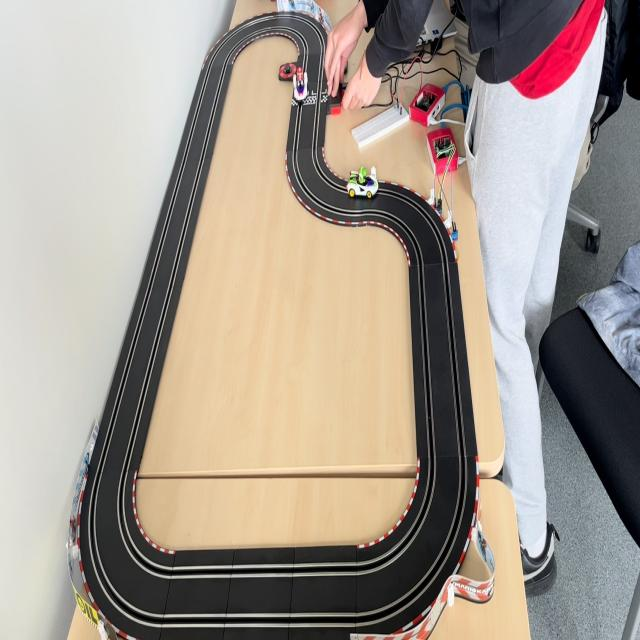mario: (291, 66, 310, 103)
yoshi: (345, 162, 381, 200)
